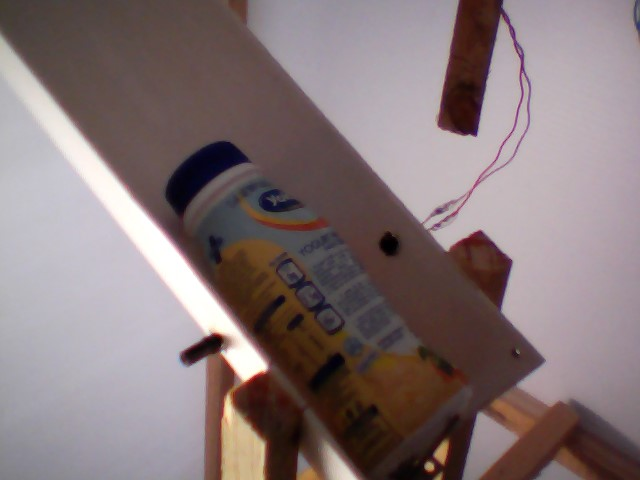plastico: (157, 136, 481, 480)
